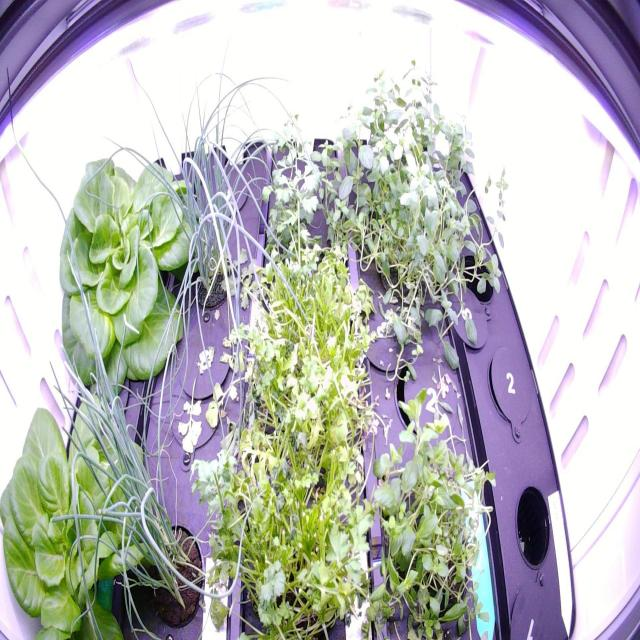empty_pod: (161, 355, 230, 463), (484, 339, 538, 438), (509, 478, 555, 580), (455, 237, 505, 314)
young: (0, 379, 172, 636), (33, 149, 208, 398)
